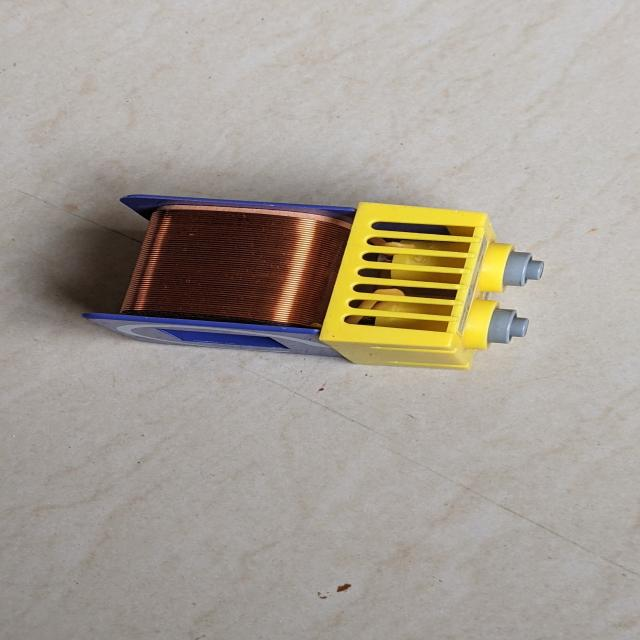Solenoid: (58, 170, 552, 370)
